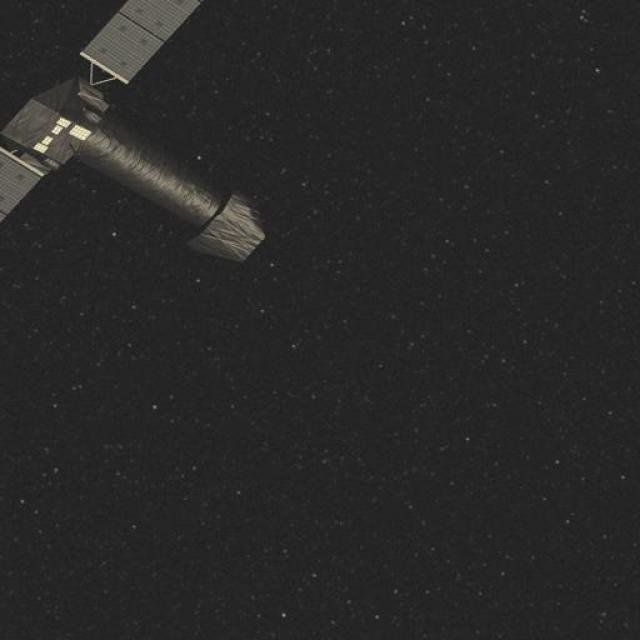xmm_newton: (0, 0, 266, 273)
